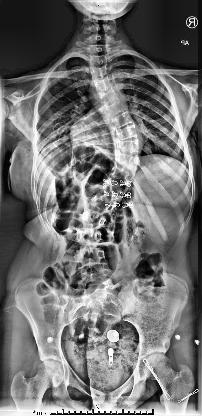Vertebrae: (72, 245, 108, 270), (98, 178, 134, 202), (72, 268, 110, 290), (88, 192, 122, 216), (75, 204, 109, 228), (74, 224, 108, 244), (108, 109, 138, 130), (114, 152, 142, 174), (111, 164, 139, 186), (94, 75, 117, 97), (102, 98, 127, 118), (116, 123, 140, 143), (95, 89, 121, 107), (118, 138, 142, 156), (88, 64, 111, 82), (87, 43, 113, 55), (87, 53, 109, 67)
